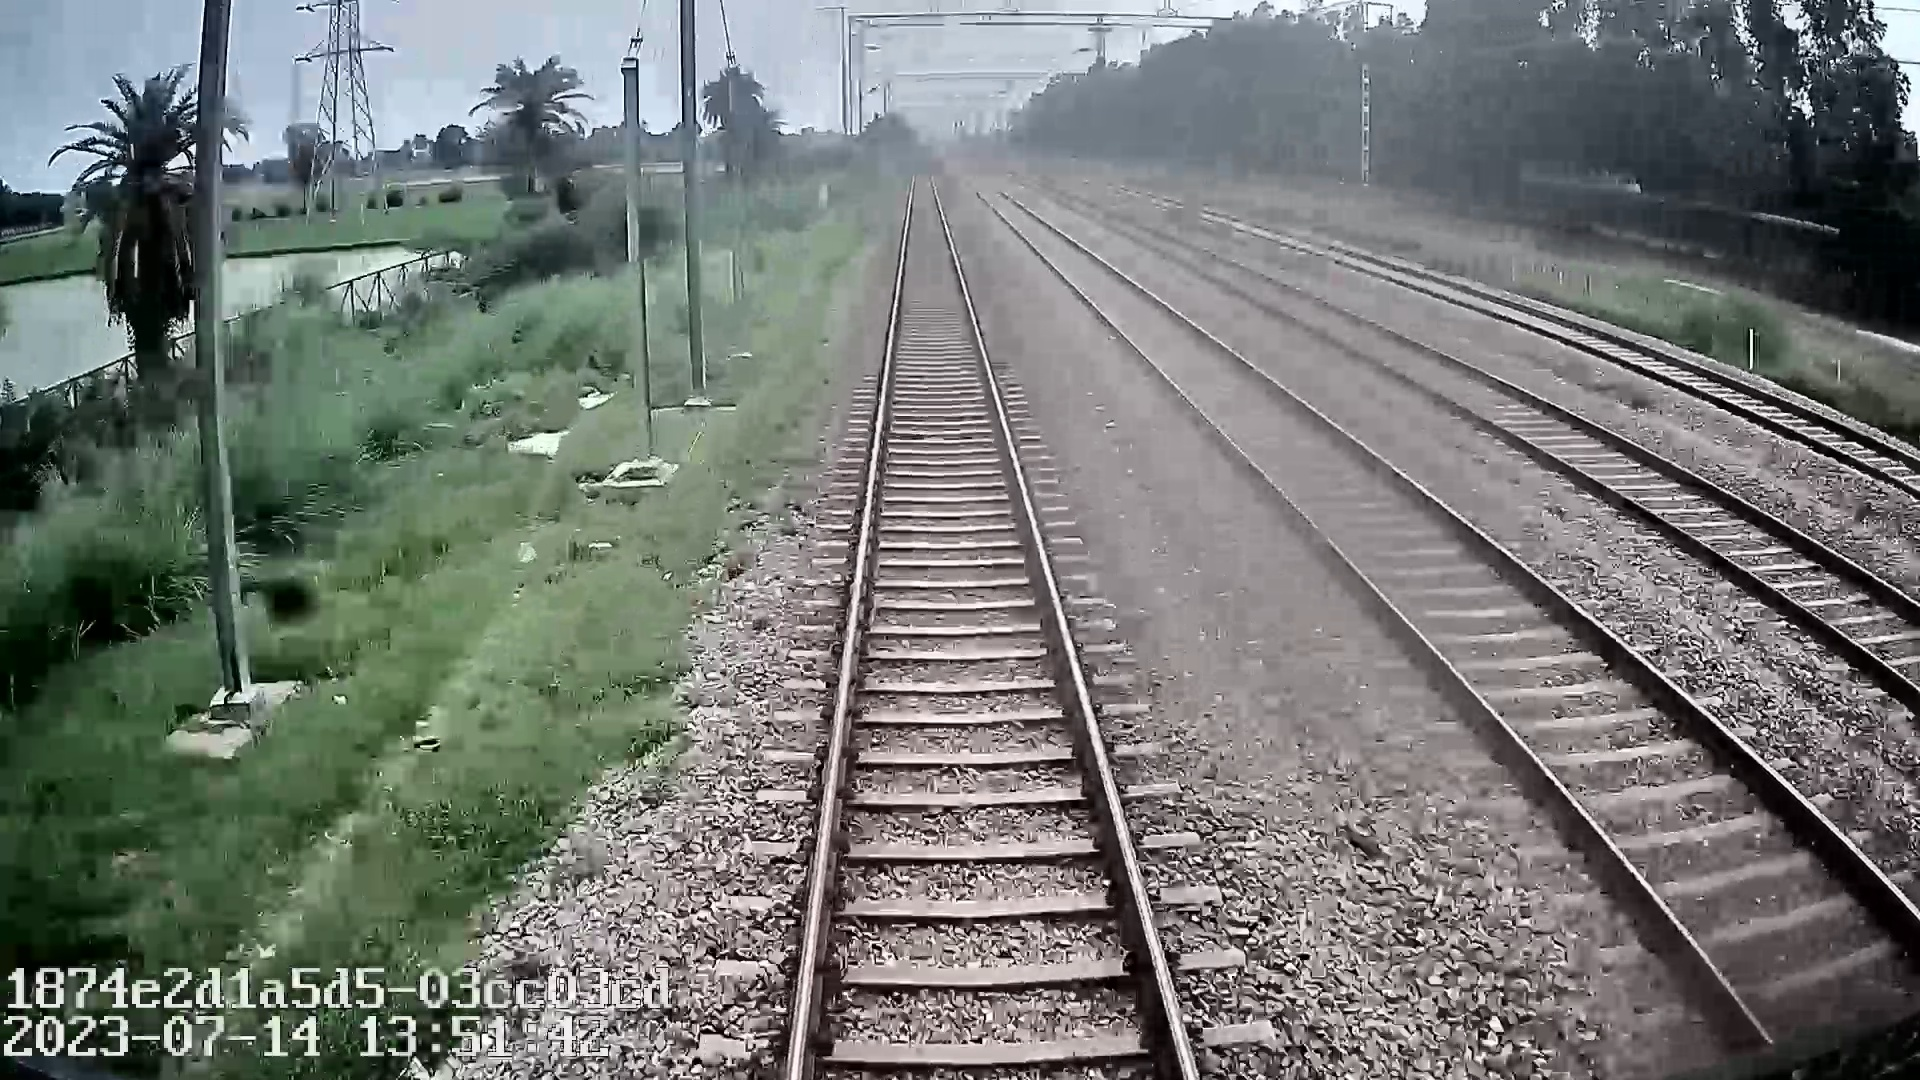track1: (796, 180, 1186, 1061)
track2: (976, 191, 1913, 1019)
track3: (1107, 220, 1919, 664)
track4: (1232, 222, 1916, 480)
